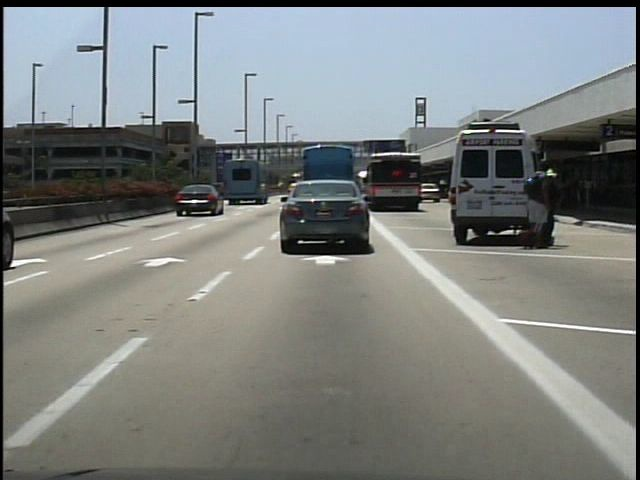person: (525, 162, 557, 249), (545, 169, 563, 246)
